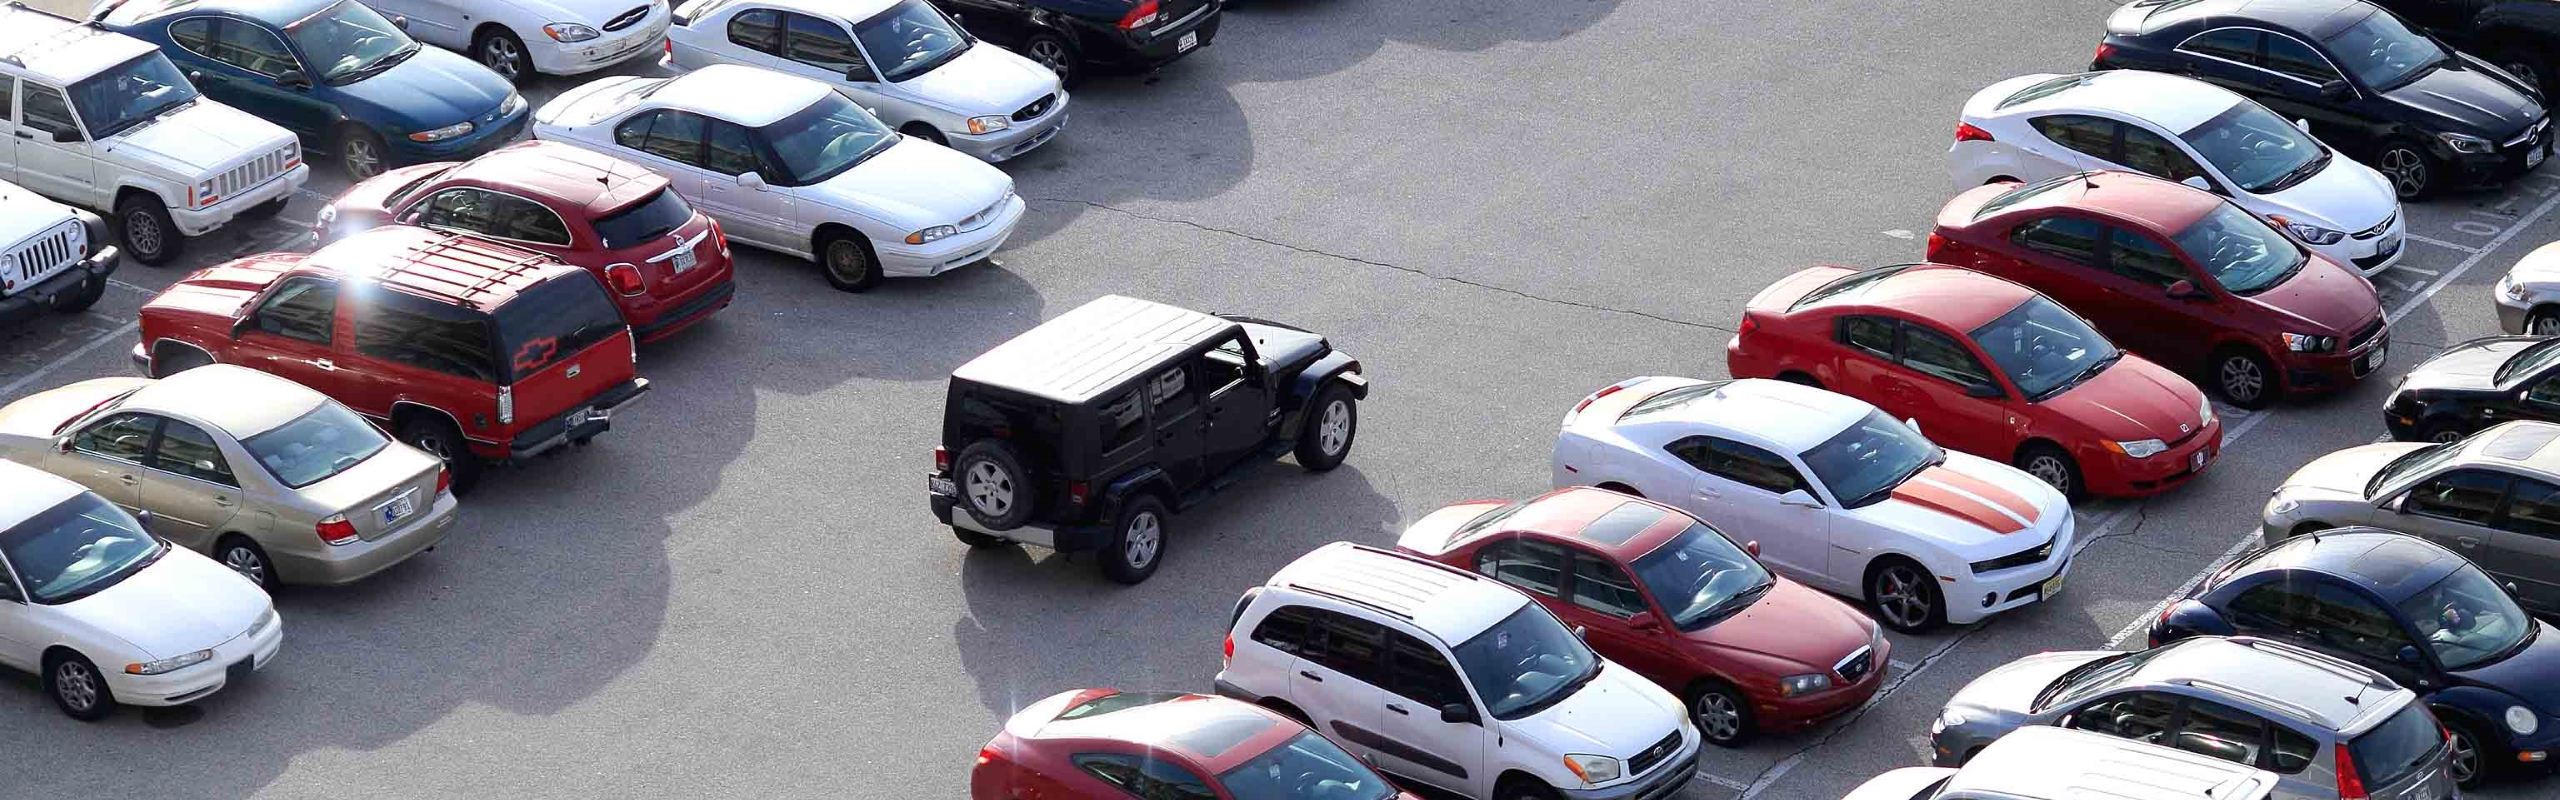Car: (1551, 376, 2077, 632), (134, 225, 648, 485), (926, 296, 1368, 584), (1398, 488, 1891, 744), (1215, 542, 1701, 800), (1722, 263, 2224, 500), (534, 65, 1025, 292), (1923, 171, 2389, 408), (2145, 527, 2560, 785), (0, 366, 459, 589), (1948, 70, 2407, 278), (2091, 0, 2552, 201), (1928, 637, 2460, 800), (313, 142, 735, 343), (0, 2, 307, 264), (87, 0, 529, 178), (0, 460, 286, 722), (666, 0, 1069, 163), (2260, 421, 2560, 620), (968, 687, 1417, 800), (1842, 727, 2276, 800), (361, 0, 669, 87), (932, 0, 1223, 78), (2380, 336, 2560, 442), (0, 180, 119, 322), (2490, 238, 2560, 335)
